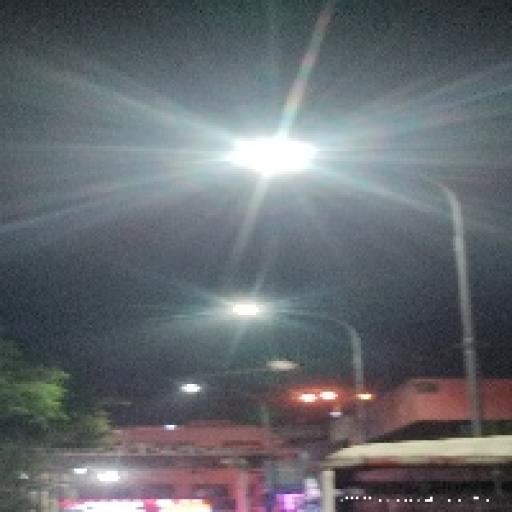Working: (223, 294, 268, 330), (172, 377, 207, 401)
